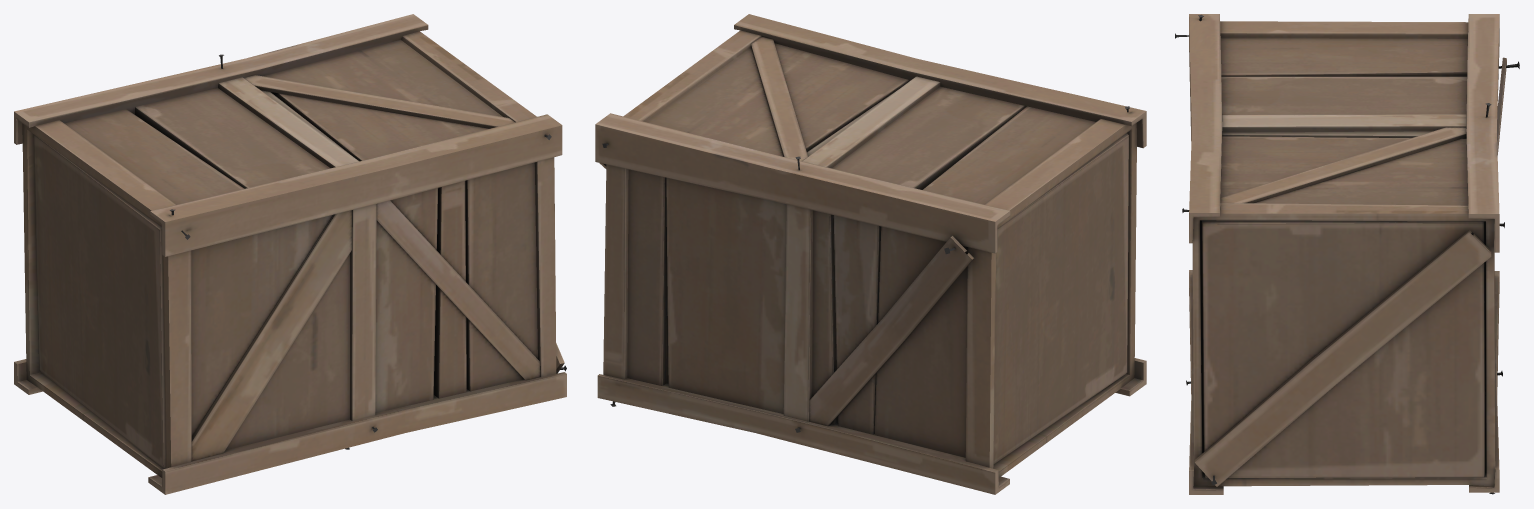
File: props_hydro_barrel_crate.glb
3 views of the same model, side by side, from view 1: azimuth 30°, elevation 25°; view 2: azimuth 150°, elevation 25°; view 3: azimuth 270°, elevation 25° (orthographic). The views are drawn at different scales.
Visible parts, largest first — view 1: models/props_hydro/barrel_crate; view 2: models/props_hydro/barrel_crate; view 3: models/props_hydro/barrel_crate.
Boxes of the visible parts, bbox=[...] form: models/props_hydro/barrel_crate: bbox=[14, 14, 566, 494]; models/props_hydro/barrel_crate: bbox=[595, 14, 1146, 494]; models/props_hydro/barrel_crate: bbox=[1175, 14, 1519, 494].
Bounding box in the file's own units: 117 × 79.68 × 82.32.
Materials: 1 (1 with a texture image).
